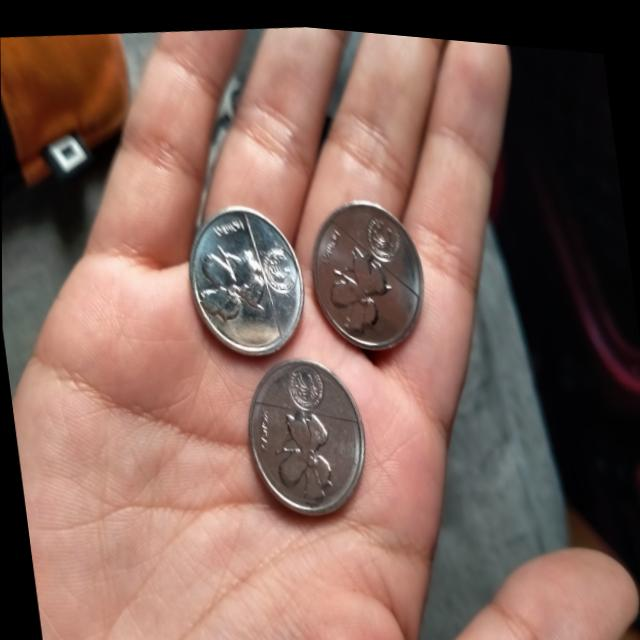25Cent_New_Back: (259, 389, 345, 513), (319, 232, 398, 338)
